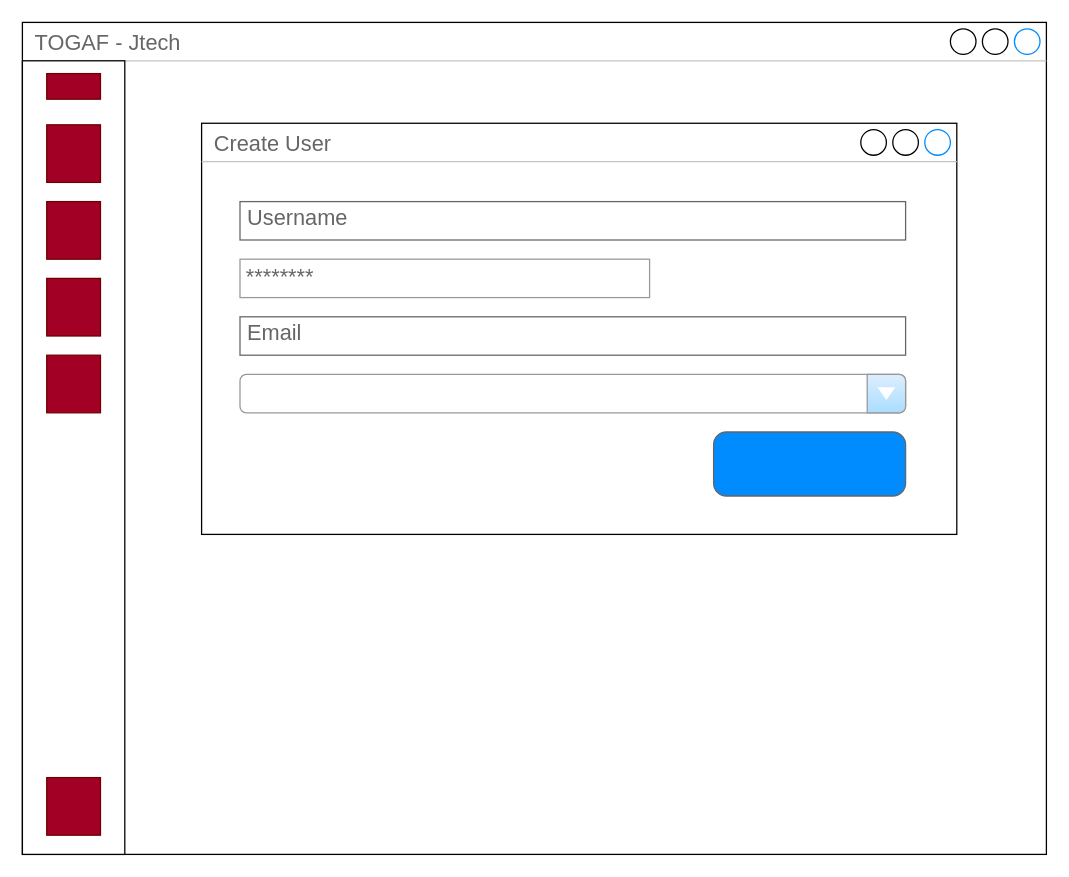
Some shapes in this 1069 by 877 pixel diagram are drawn without their labels. The centre of each missing label's shape, as x and y in pixels:
Create: the point at 809,463
Role - ARCHITECT: the point at 572,393
